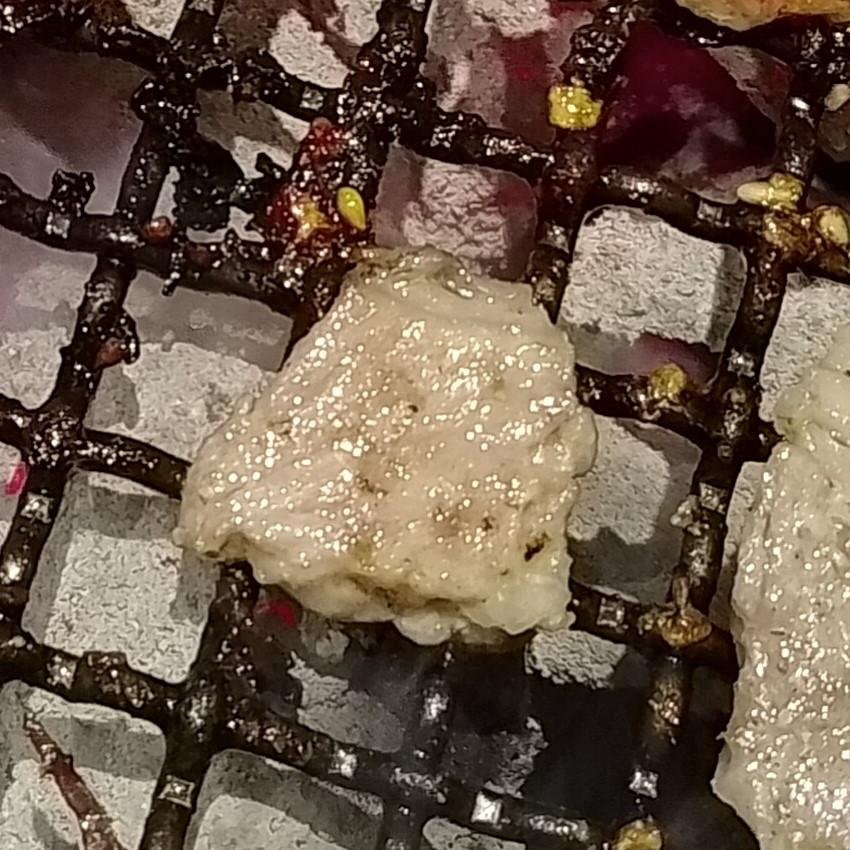Overcooked: (173, 253, 598, 650), (717, 281, 849, 849)
